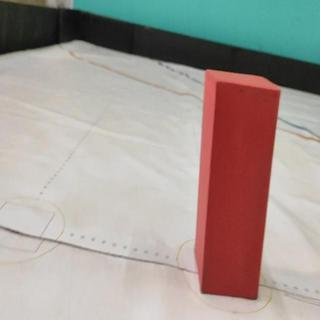redbox: (193, 69, 281, 298)
